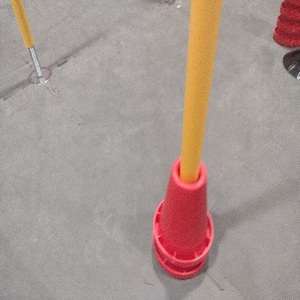Red_2: (152, 152, 214, 278)
Red_3: (270, 0, 299, 45)
